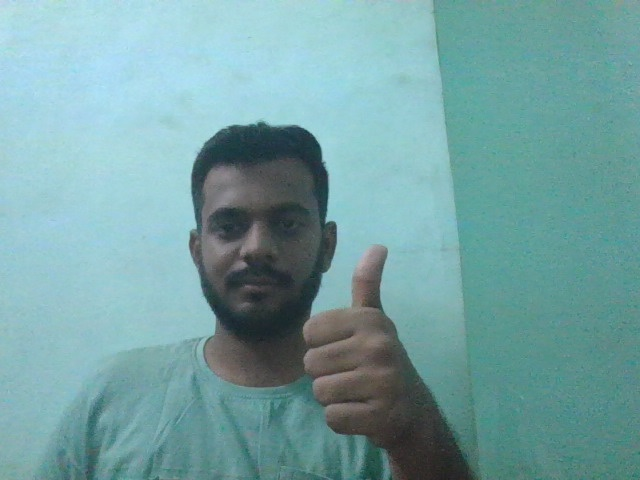yes: (299, 240, 441, 439)
